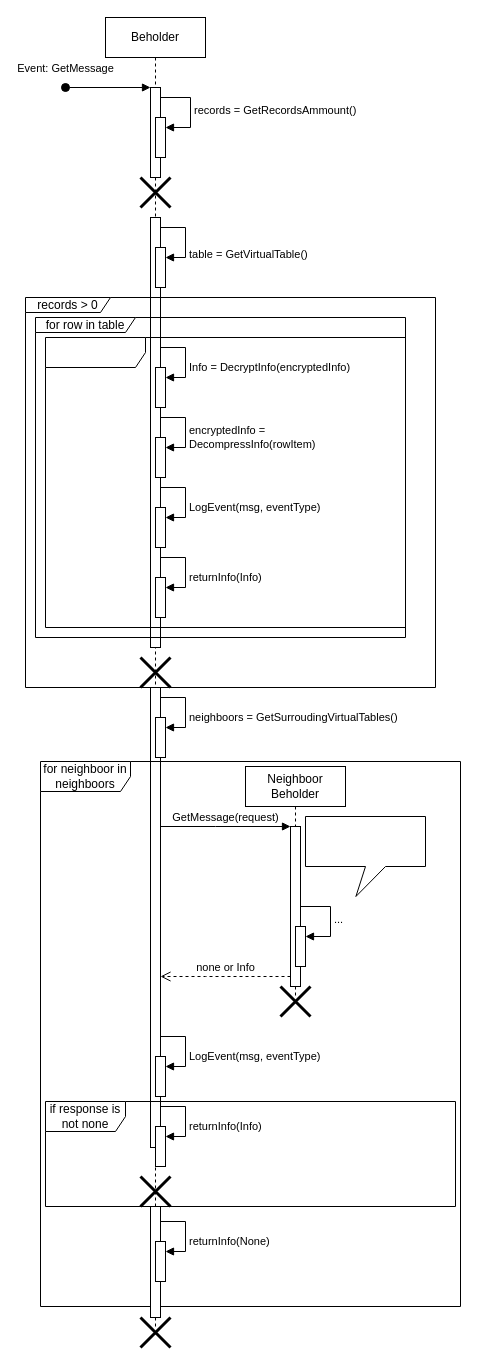
Some shapes in this 478 by 1366 pixel diagram are drawn without their labels. The centre of each missing label's shape, as x and y in pixels:
"if request == rowItem" goes at [225,482].
"Runs the same code we are describing on the original Beholder" goes at [365,856].
